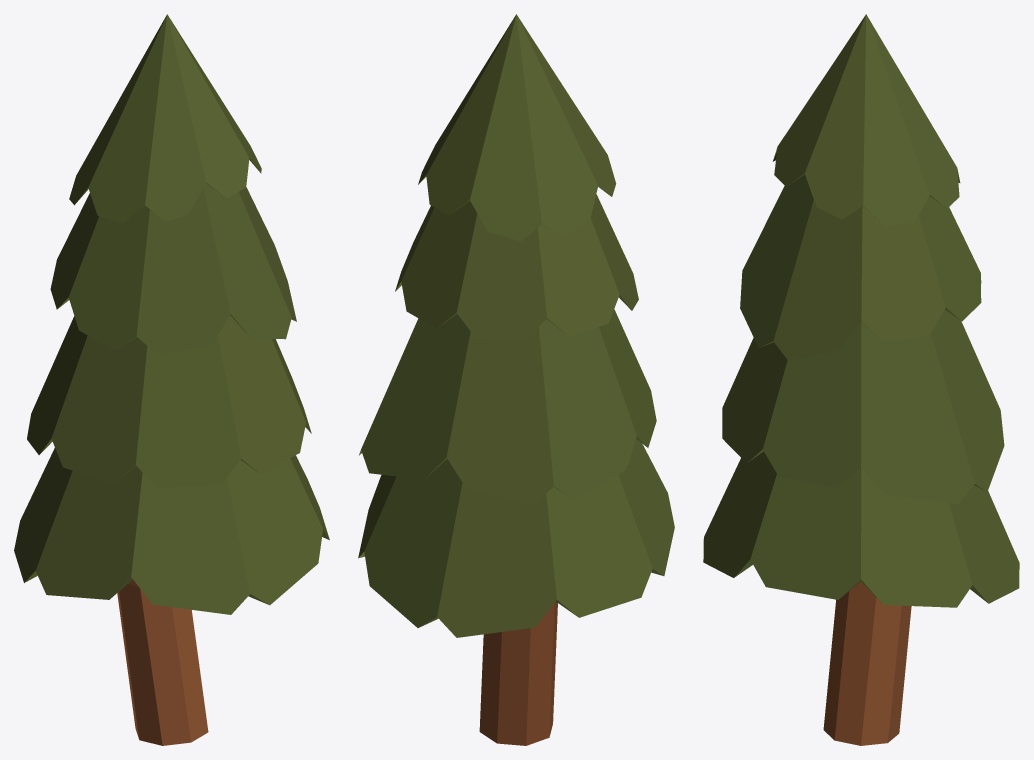
File: env-tree2.fbx
3 renders of one model, left to right at view 1: azimuth 30°, elevation 25°; view 2: azimuth 150°, elevation 25°; view 3: azimuth 270°, elevation 25°, orthographic.
Parts seen in each view (by area): view 1: ref_agac.007; view 2: ref_agac.007; view 3: ref_agac.007.
Boxes of the visible parts, x1,y1,x2,y2 form: ref_agac.007: [14, 14, 329, 745]; ref_agac.007: [358, 14, 674, 745]; ref_agac.007: [703, 14, 1019, 745].
Size of the model in its own units: 193 by 484 by 193.
